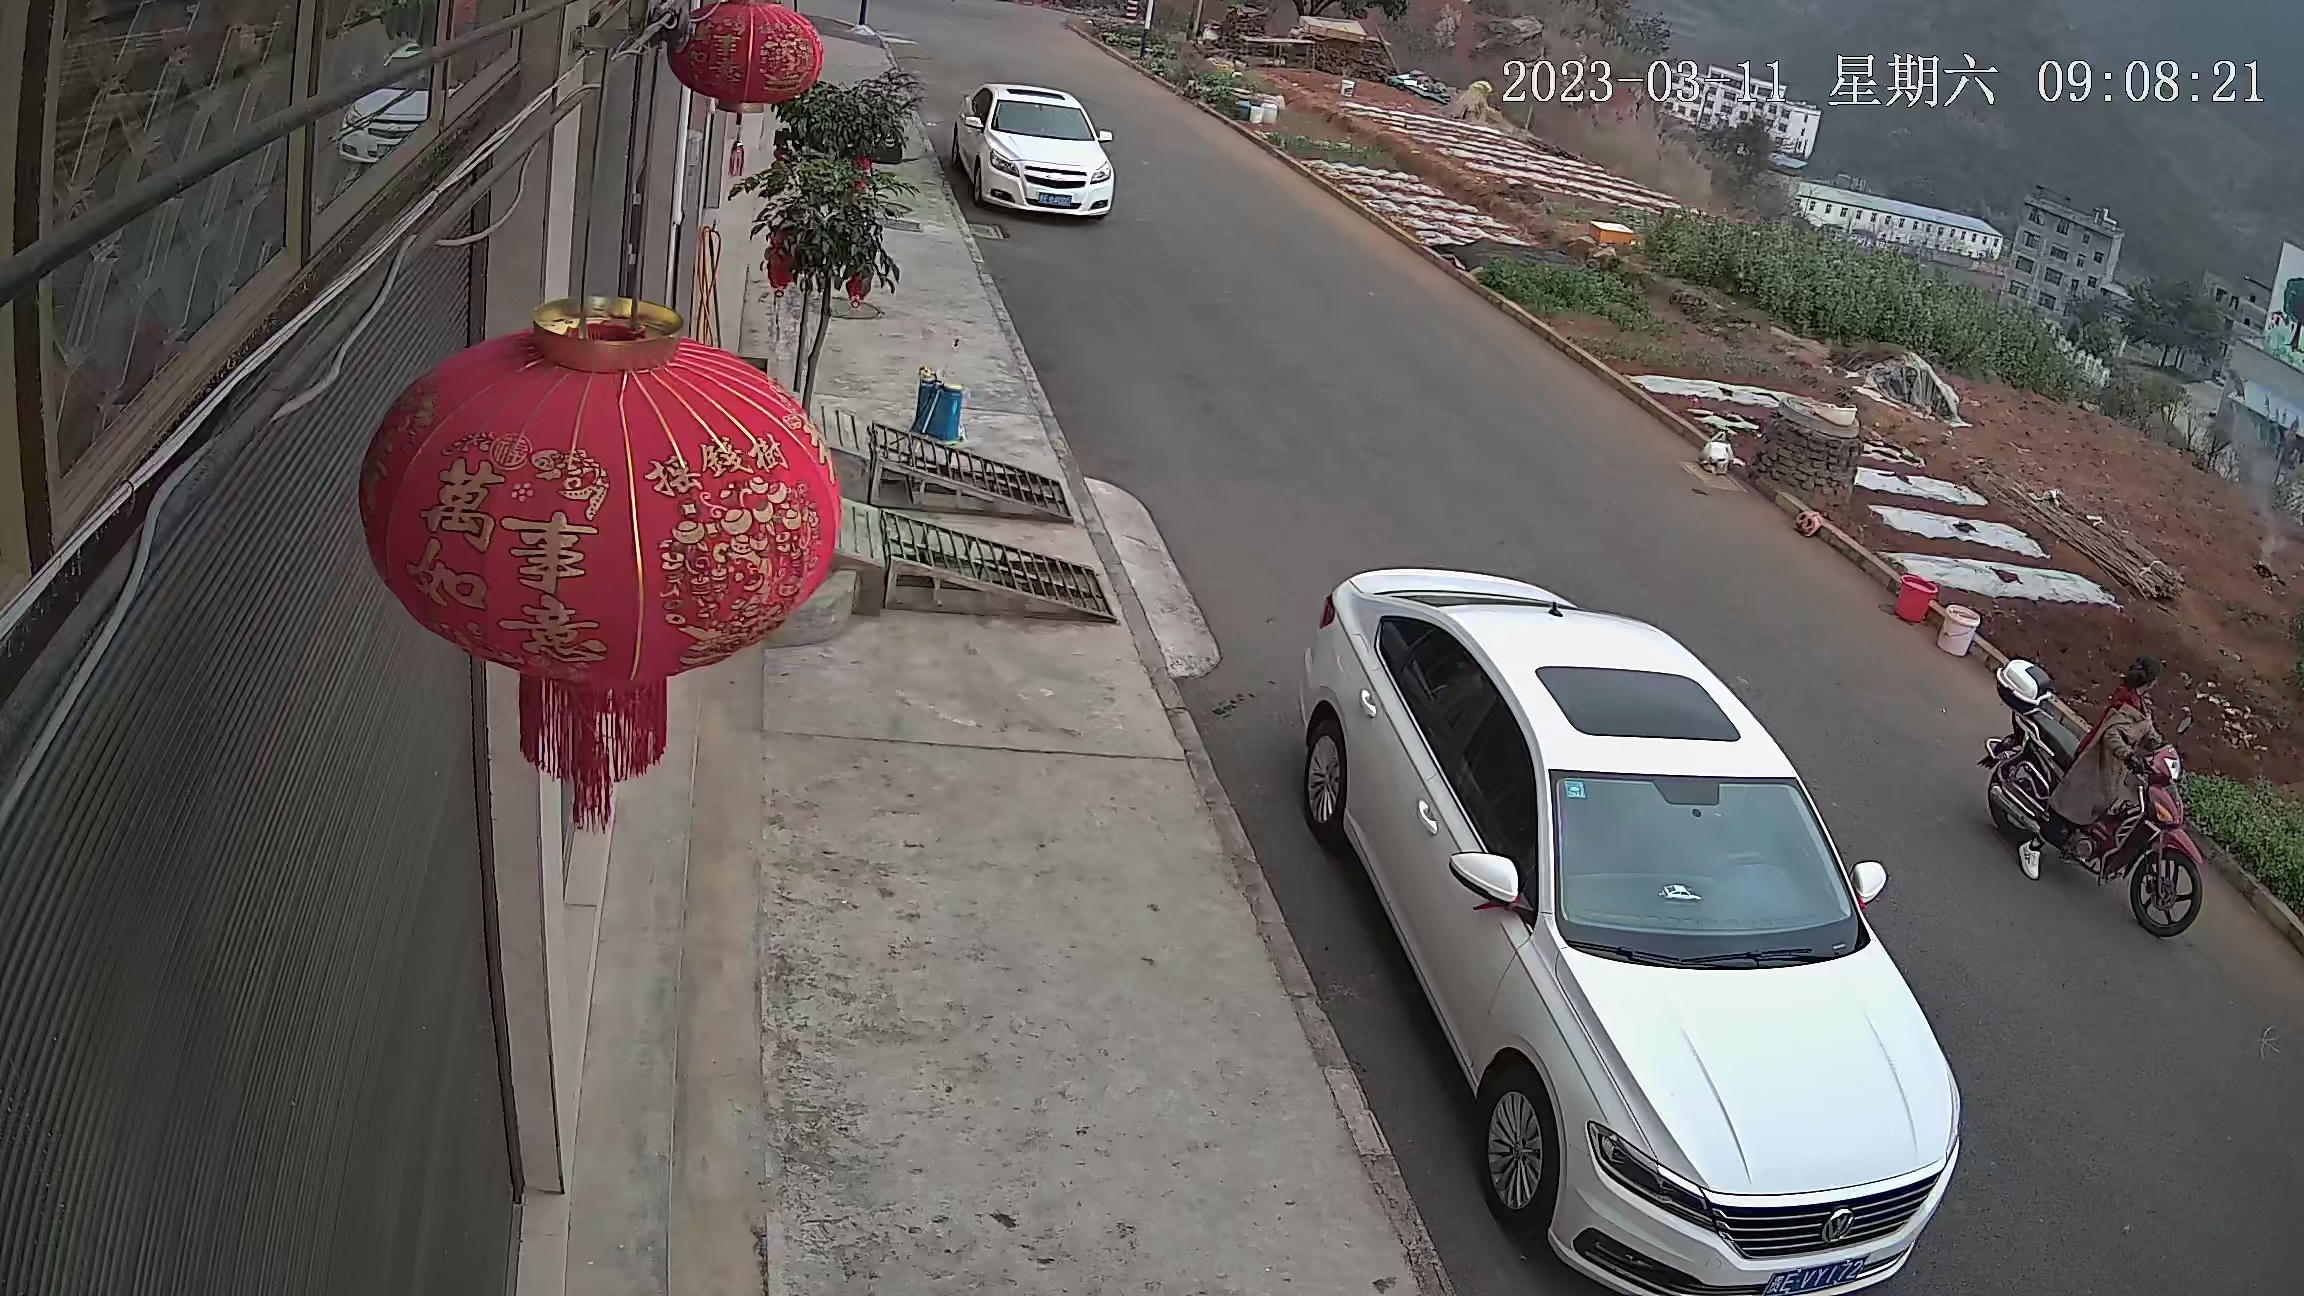motorcycle: (1980, 642, 2212, 938)
sedan: (1274, 559, 1969, 1288), (946, 81, 1122, 222)
